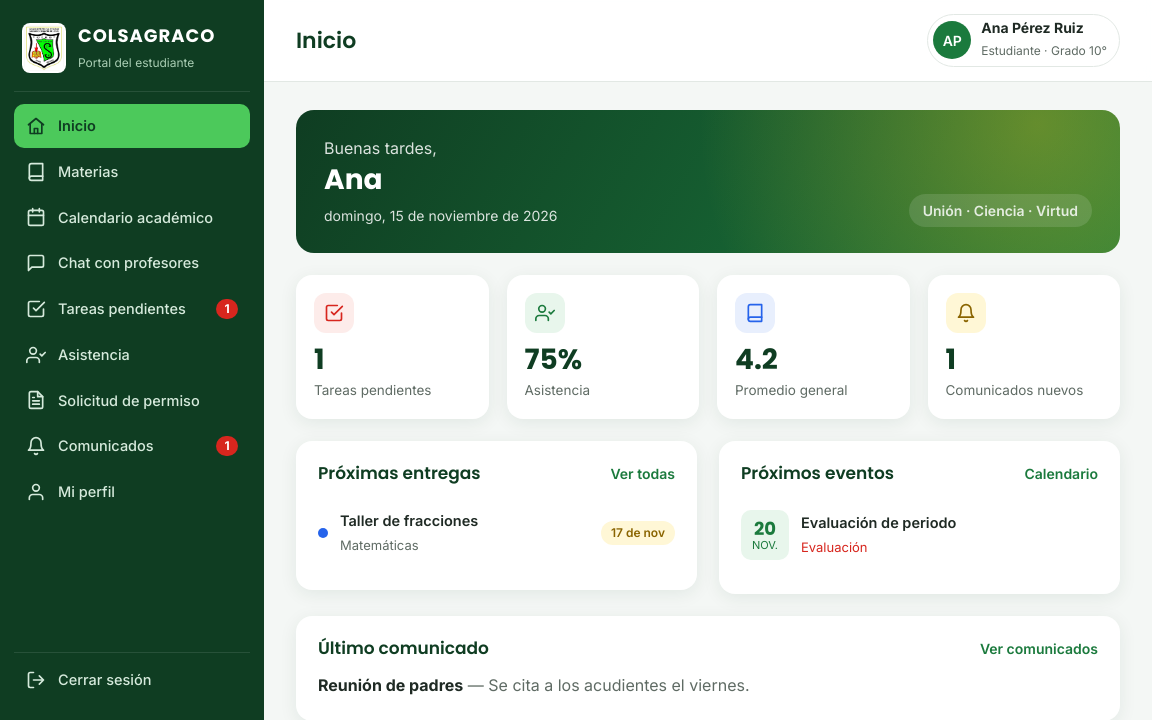
Test case: Plataforma del estudiante › Materias: muestra docente, nota, desempeño y asistencia
Expected: the heading "Ana" is shown, [324, 160, 382, 199]
Click the button "Materias".
click(132, 172)  # box [14, 150, 250, 194]
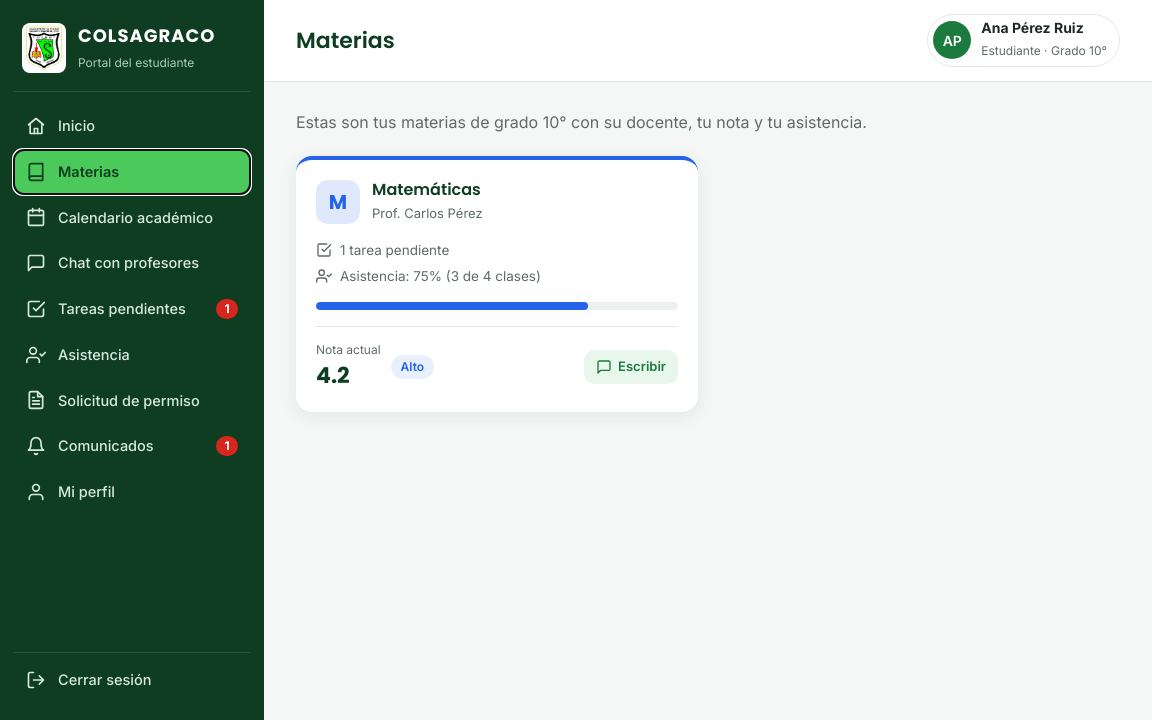
Expected: the text "Prof. Carlos Pérez" is shown, [372, 205, 483, 221]
Expected: the text "Alto" is shown, [391, 355, 434, 379]
Expected: the list item "Asistencia: 75% (3 de 4 clases)" is shown, [316, 268, 541, 284]
